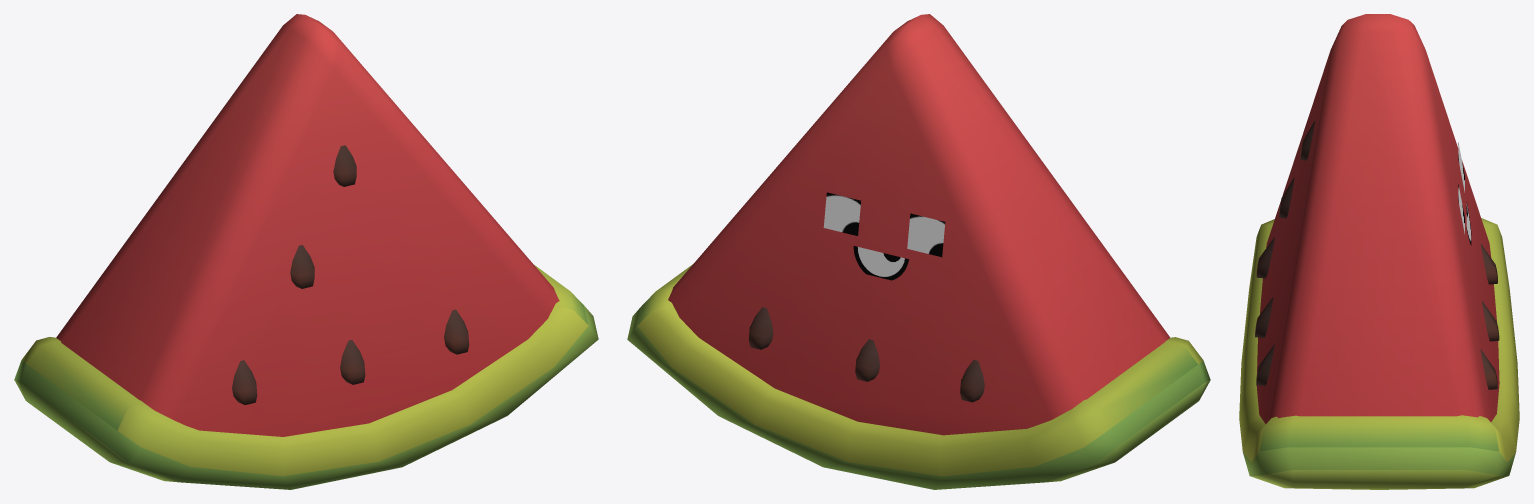
Rendered from watermelon_piece_smile.fbx.
The picture shows the model from 3 angles, left to right: view 1: azimuth 30°, elevation 25°; view 2: azimuth 150°, elevation 25°; view 3: azimuth 270°, elevation 25°; orthographic projection. The views are drawn at different scales.
Visible parts, largest first — view 1: watermelon_piece; view 2: watermelon_piece; view 3: watermelon_piece.
Boxes of the visible parts, bbox=[...] form: watermelon_piece: bbox=[14, 14, 598, 489]; watermelon_piece: bbox=[627, 14, 1210, 489]; watermelon_piece: bbox=[1239, 14, 1519, 489].
Size of the model in its own units: 62.09 by 29.96 by 50.57.
